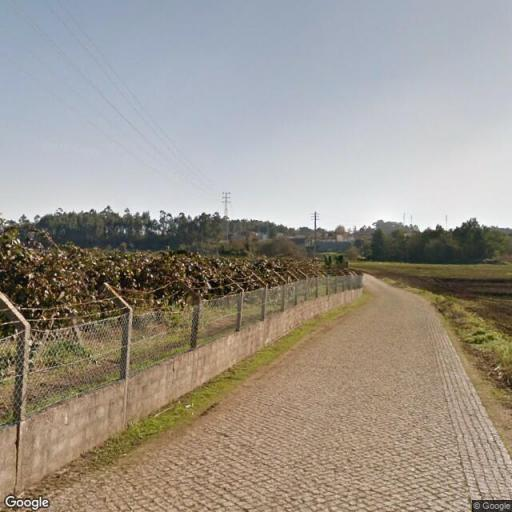mono_9: (310, 208, 322, 258)
ss_3: (219, 188, 232, 250)
